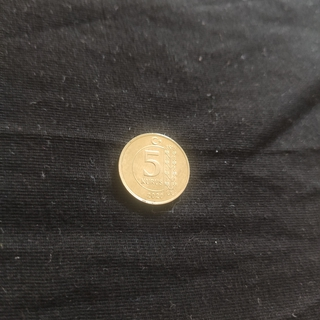5KURUS: (116, 131, 192, 206)
